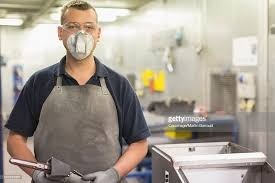person without safety: (10, 1, 151, 181)
